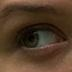eye: (22, 31, 40, 47)
